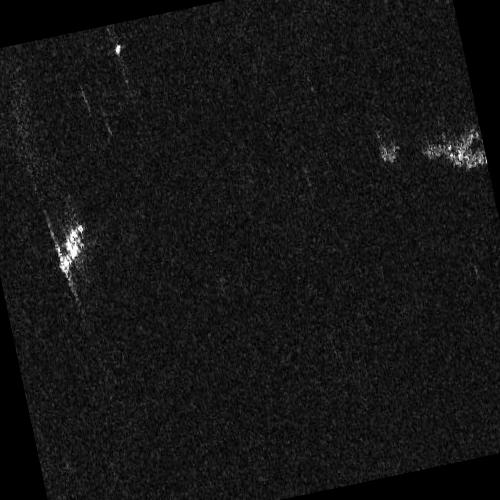ship: (59, 222, 85, 276), (114, 43, 122, 56)
